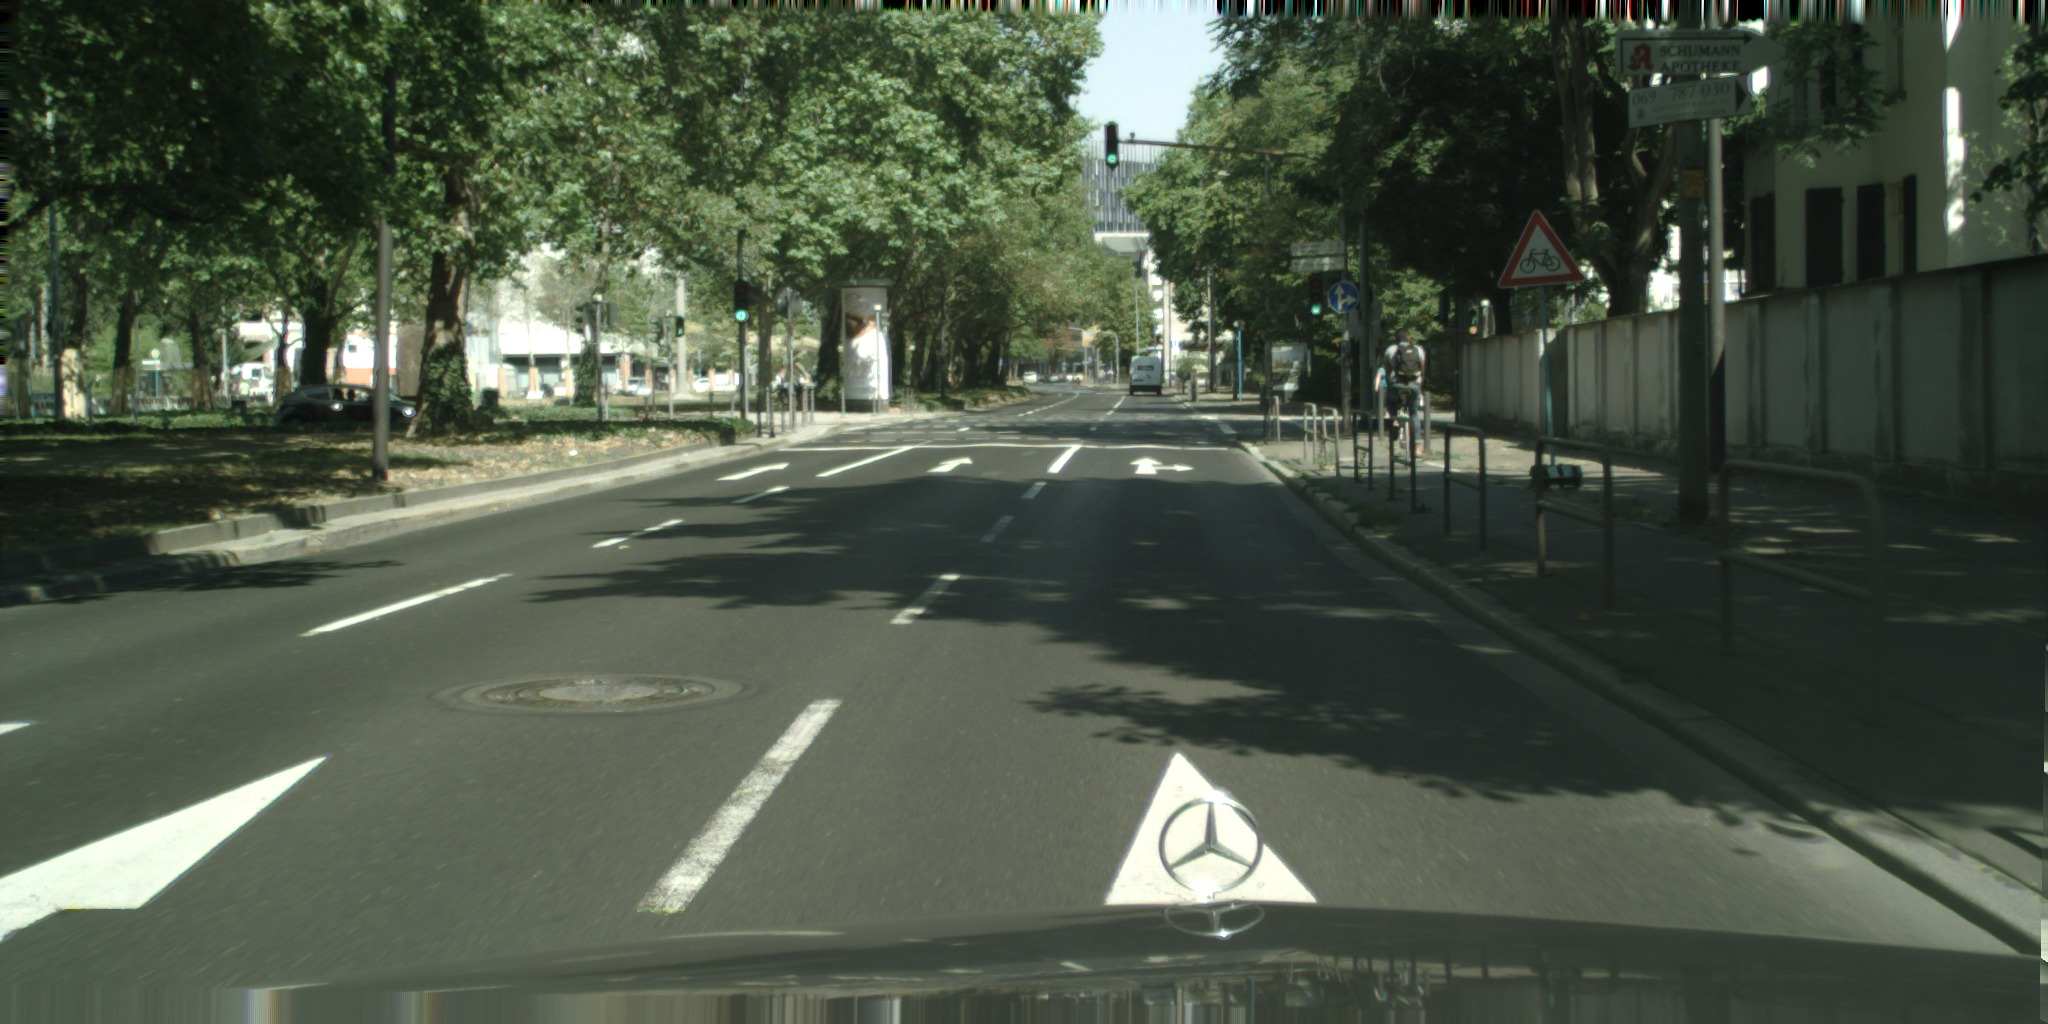bicycle: (1394, 383, 1423, 470)
car: (271, 383, 416, 426), (1127, 355, 1162, 395), (693, 377, 735, 392), (523, 382, 558, 398), (621, 376, 648, 397), (1022, 370, 1039, 386), (771, 375, 784, 393), (551, 381, 570, 395), (1046, 373, 1059, 383), (1070, 373, 1084, 382), (1062, 373, 1073, 381), (1056, 373, 1062, 380)
person: (1373, 364, 1401, 411)
rider: (1382, 328, 1427, 459)
truck: (214, 356, 281, 403)
